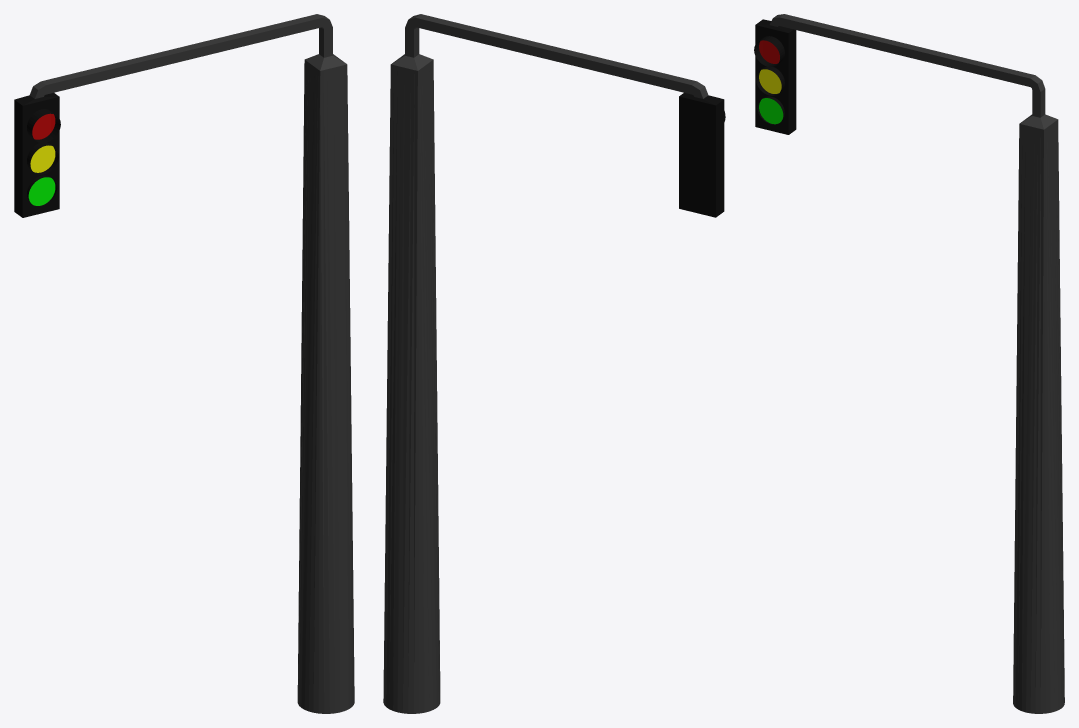
Rendered from Trafficlight.obj.
3 renders of one model, left to right at view 1: azimuth 30°, elevation 25°; view 2: azimuth 150°, elevation 25°; view 3: azimuth 330°, elevation 25°, orthographic. The views are drawn at different scales.
Visible parts, largest first — view 1: Cylinder; view 2: Cylinder; view 3: Cylinder.
Part boxes in pixels (<box>): Cylinder: <box>14,14,354,713</box>; Cylinder: <box>383,14,725,713</box>; Cylinder: <box>754,14,1064,713</box>.
Size of the model in its own units: 2.02 by 3.98 by 0.3.
